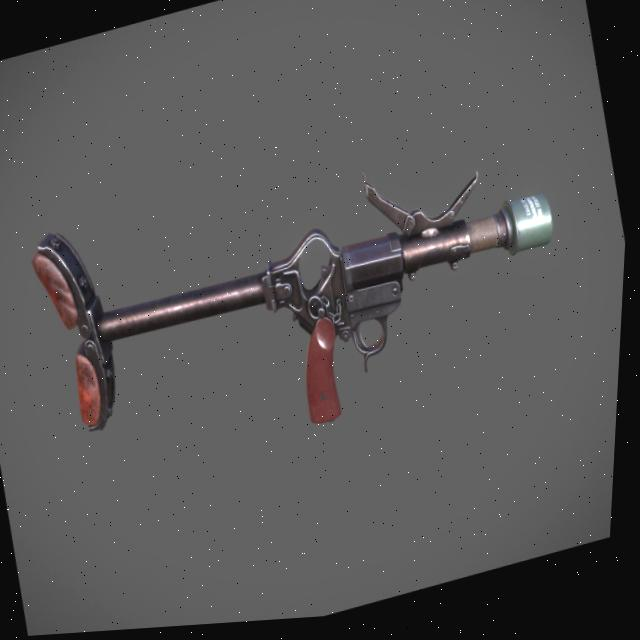grenade: (494, 189, 570, 265)
pistol: (20, 117, 532, 490)
